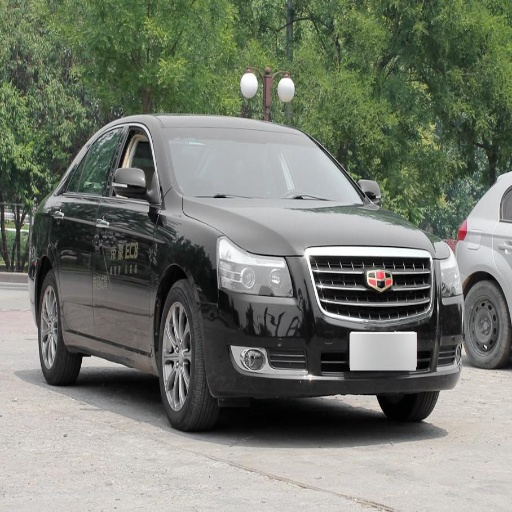front_bumper: (195, 252, 464, 402)
front_right_door: (96, 122, 159, 349)
front_right_light: (217, 237, 295, 296)
hood: (193, 200, 435, 256)
